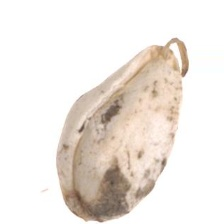L1: (145, 36, 191, 81), (61, 189, 114, 222)
L2: (55, 37, 190, 221)
